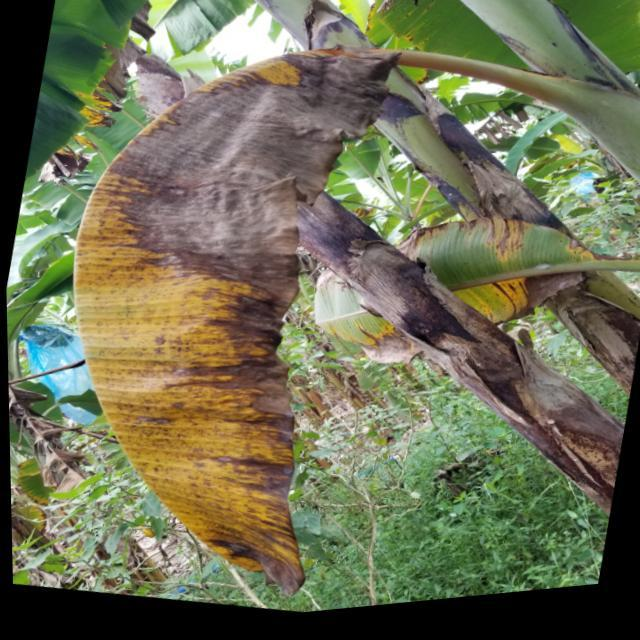Early_rust: (66, 39, 408, 599), (406, 181, 609, 345), (18, 0, 150, 154)
